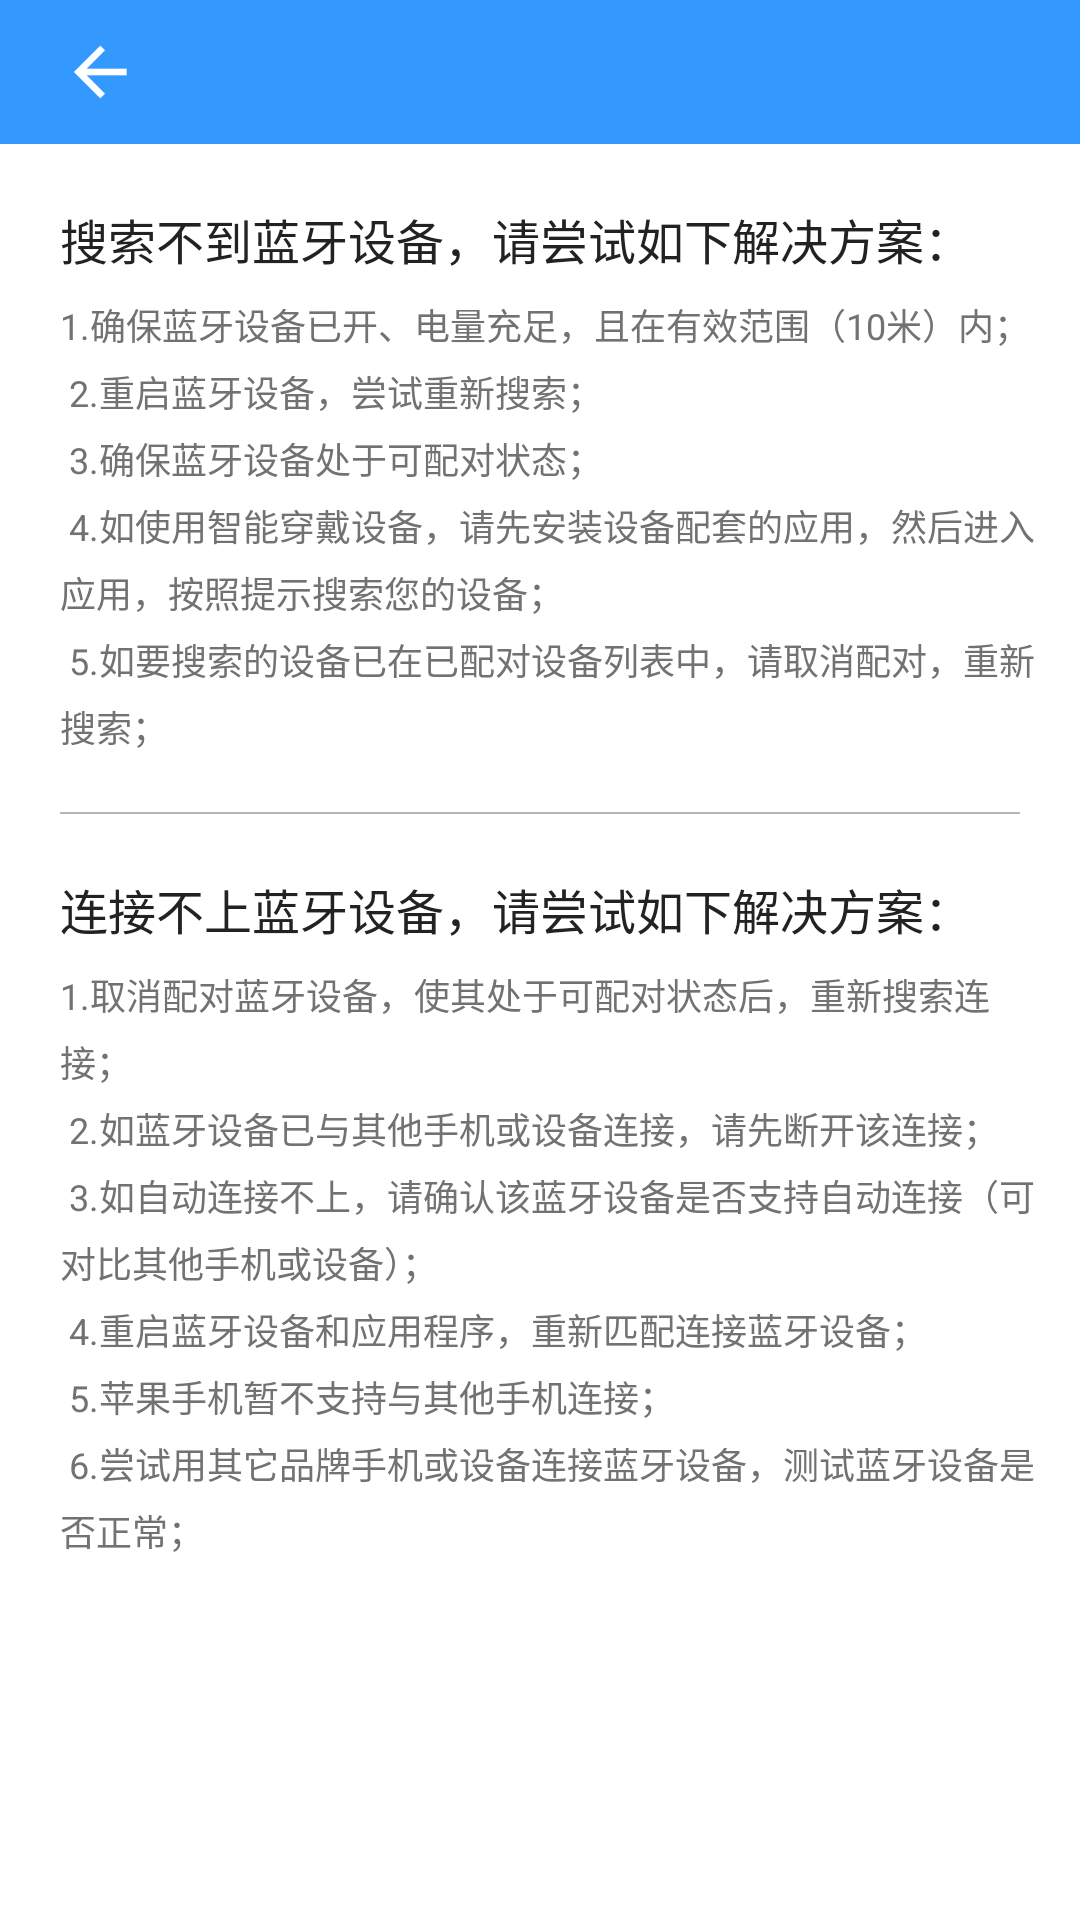

Icons on this 1080×1920 Android screen, each with its box as (x1, y1, x2, y2):
back: (74, 45, 127, 99)
